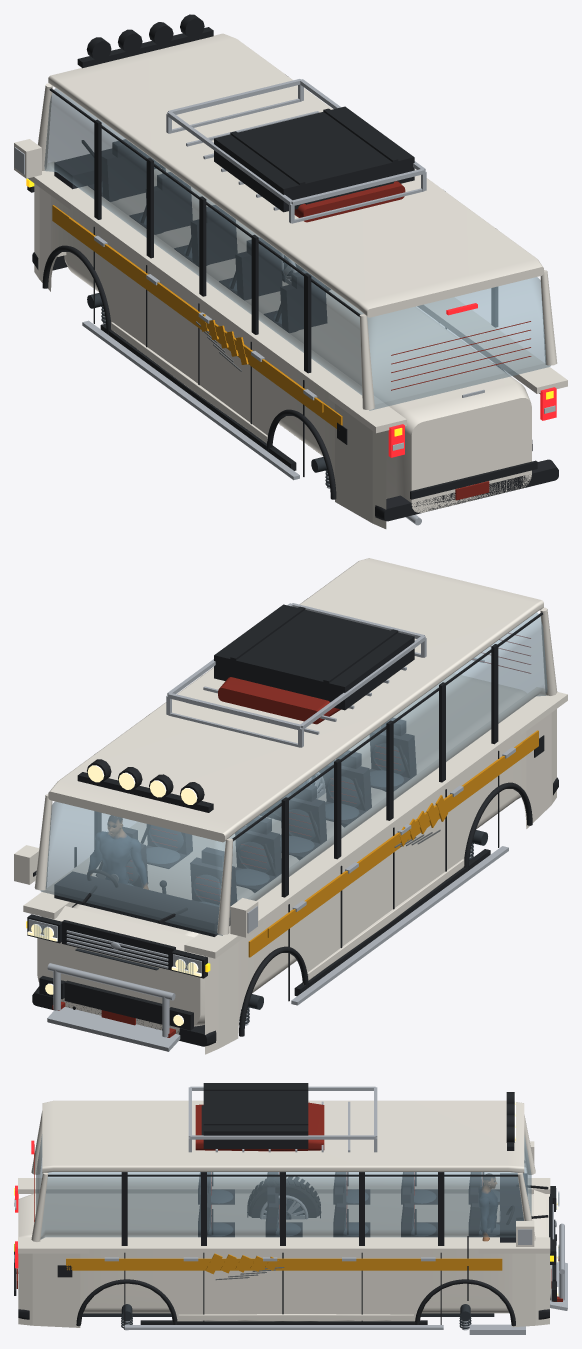
File: tourist-coaster.glb
3 views of the same model, one above another, from view 1: azimuth 30°, elevation 25°; view 2: azimuth 150°, elevation 25°; view 3: azimuth 270°, elevation 25° (orthographic). The views are drawn at different scales.
Parts seen in each view (by area): view 1: body_high, body_low, cosmetic_carrier, cosmetic_basket, cosmetic_lamps, cosmetic_stripe, cosmetic_trail, cosmetic_summit; view 2: body_high, body_low, cosmetic_carrier, cosmetic_trail, cosmetic_basket, cosmetic_lamps, cosmetic_stripe, cosmetic_summit; view 3: body_high, body_low, cosmetic_carrier, cosmetic_stripe, cosmetic_trail, cosmetic_basket, wheel_high, cosmetic_summit, cosmetic_lamps, wheel_low.
Boxes of the visible parts, x1=… form: body_high: x1=14, y1=33, x2=567, y2=528; body_low: x1=43, y1=88, x2=549, y2=496; cosmetic_carrier: x1=214, y1=106, x2=414, y2=212; cosmetic_basket: x1=166, y1=79, x2=426, y2=223; cosmetic_lamps: x1=77, y1=14, x2=213, y2=68; cosmetic_stripe: x1=68, y1=217, x2=323, y2=412; cosmetic_trail: x1=82, y1=320, x2=299, y2=480; cosmetic_summit: x1=199, y1=314, x2=248, y2=364; body_high: x1=14, y1=558, x2=567, y2=1054; body_low: x1=31, y1=612, x2=546, y2=1033; cosmetic_carrier: x1=214, y1=604, x2=414, y2=710; cosmetic_trail: x1=47, y1=846, x2=508, y2=1051; cosmetic_basket: x1=166, y1=603, x2=426, y2=747; cosmetic_lamps: x1=77, y1=759, x2=213, y2=812; cosmetic_stripe: x1=267, y1=743, x2=522, y2=937; cosmetic_summit: x1=399, y1=795, x2=447, y2=846; body_high: x1=14, y1=1100, x2=562, y2=1334; body_low: x1=36, y1=1137, x2=531, y2=1325; cosmetic_carrier: x1=203, y1=1083, x2=308, y2=1148; cosmetic_stripe: x1=92, y1=1258, x2=475, y2=1265; cosmetic_trail: x1=124, y1=1223, x2=567, y2=1329; cosmetic_basket: x1=188, y1=1086, x2=377, y2=1152; wheel_high: x1=247, y1=1177, x2=320, y2=1217; cosmetic_summit: x1=205, y1=1253, x2=278, y2=1274; cosmetic_lamps: x1=506, y1=1092, x2=515, y2=1150; wheel_low: x1=251, y1=1185, x2=317, y2=1216.
Size of what is drawn, in the model's own units: 2.53 by 2.73 by 6.88.
